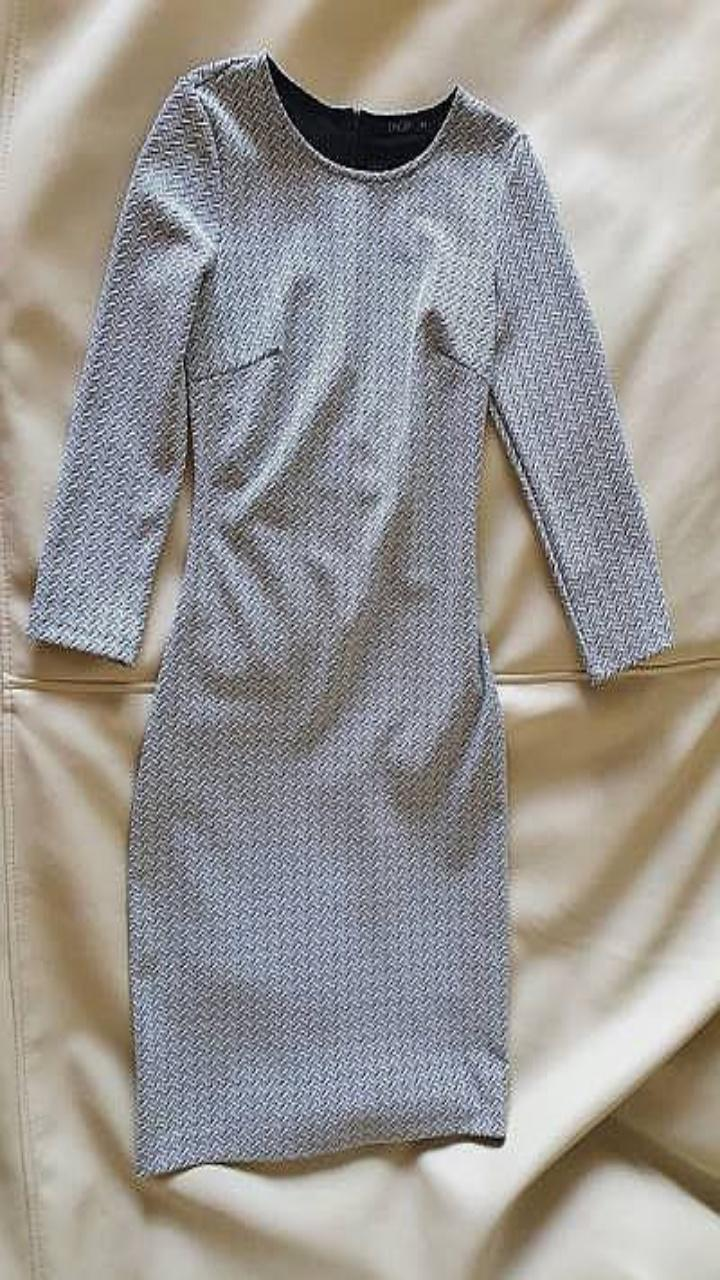Dresses: (28, 49, 672, 1175)
